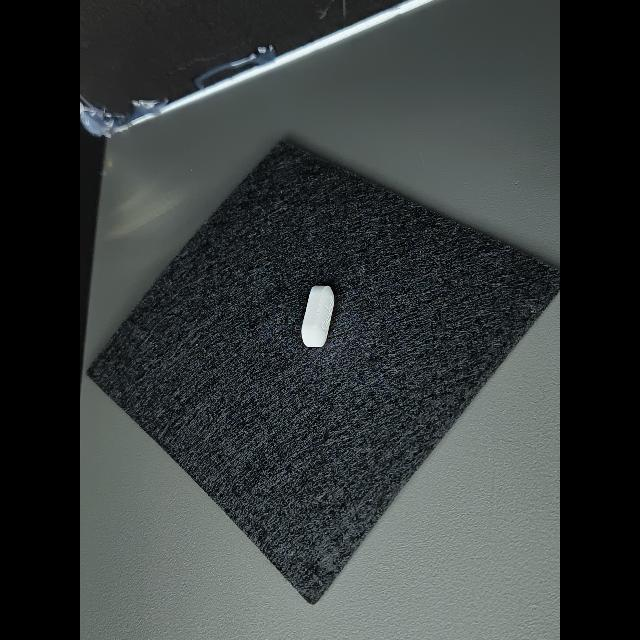Intact Pill: (302, 286, 334, 347)
